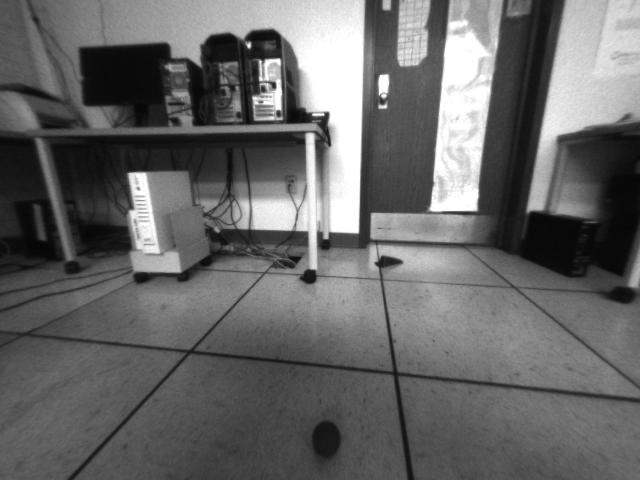dogtoy: (301, 409, 351, 468)
